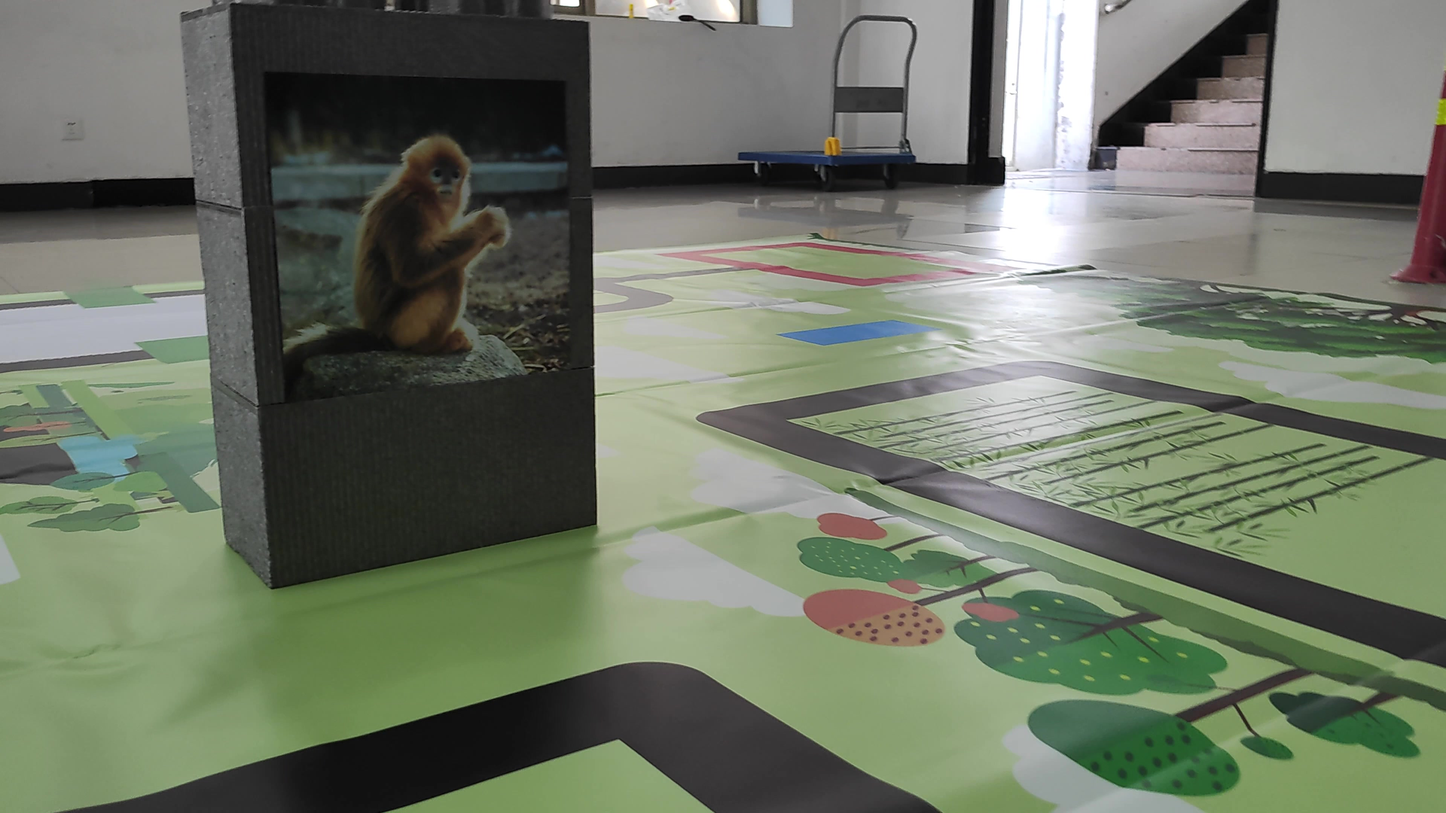monkey: (290, 98, 538, 408)
